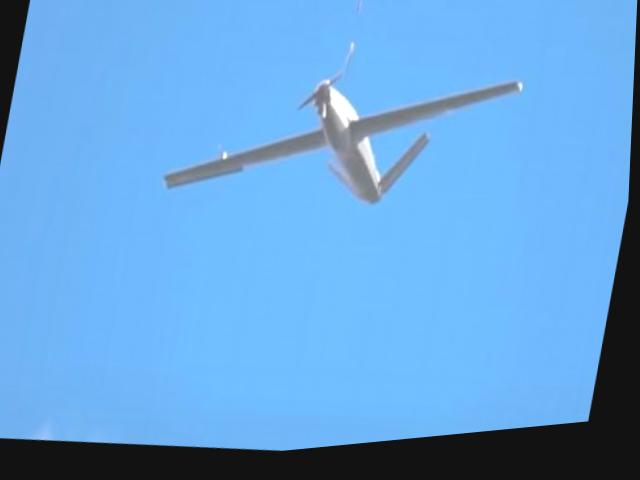iha: (158, 33, 544, 261)
